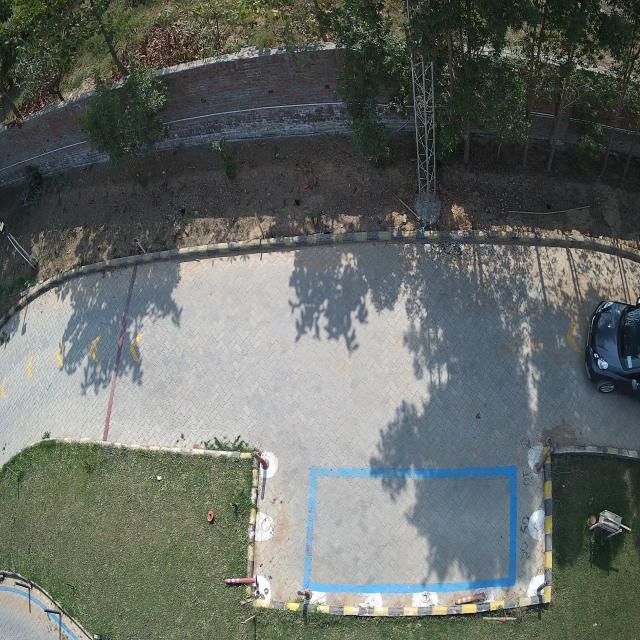car: (585, 298, 640, 398)
